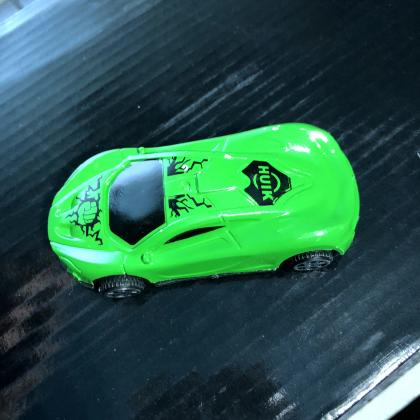Car: (46, 123, 361, 305)
